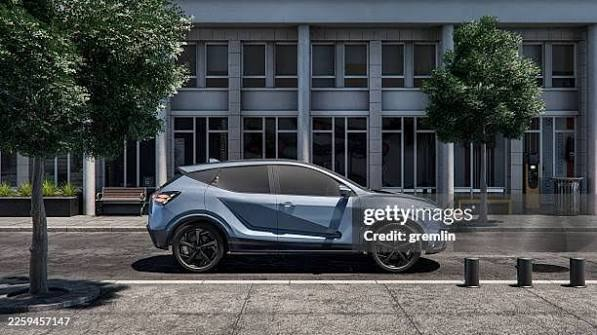car: (140, 156, 461, 274)
